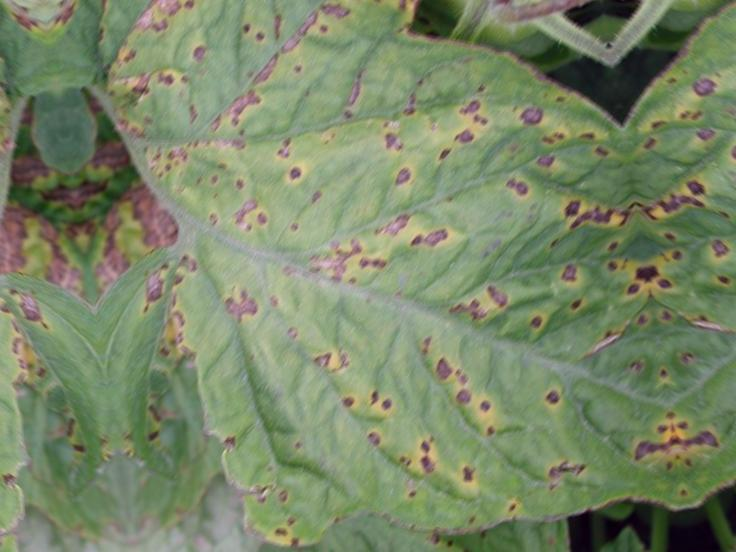Tomato leaf bacterial spot: (56, 0, 691, 552)
